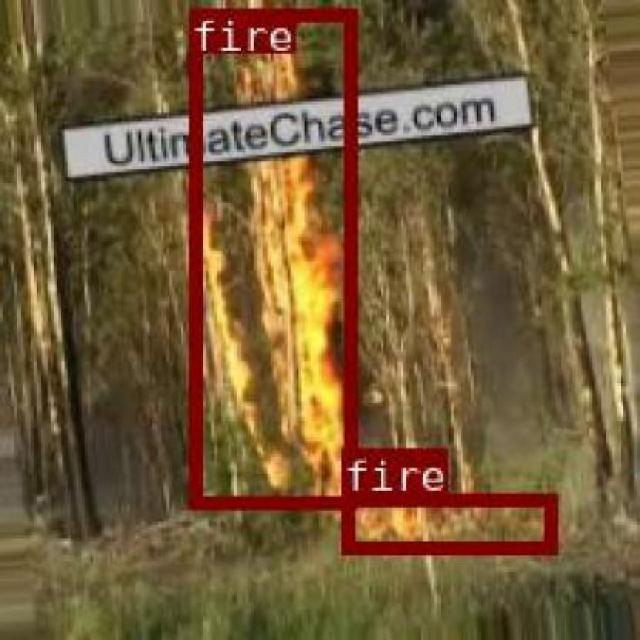Fire: (188, 6, 354, 506), (339, 492, 553, 551)
